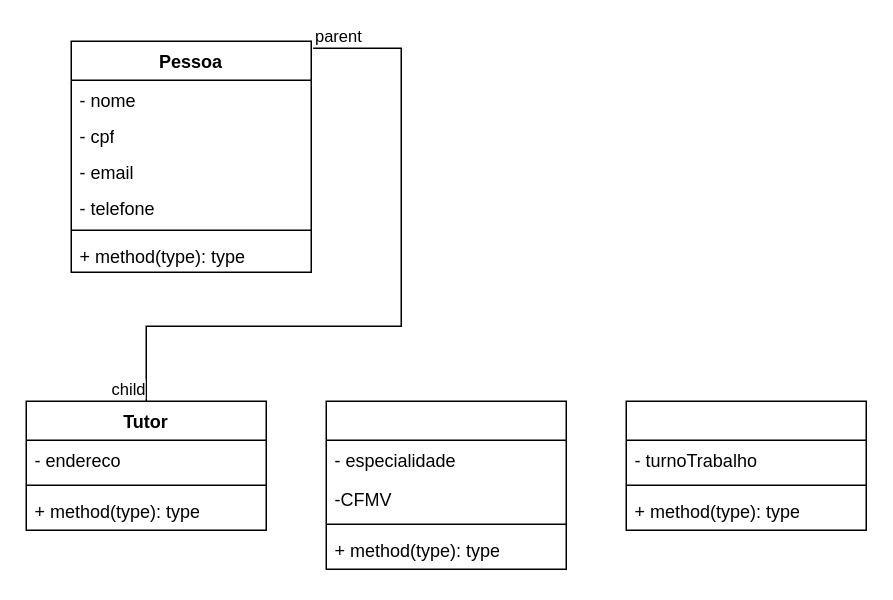
The diagram is 893 pixels wide and 600 high, and some of its shapes have lost their labels. Each missing label, with the box of its shape:
Funcionario: (625, 400, 866, 530)
Veterinario: (325, 400, 566, 569)
